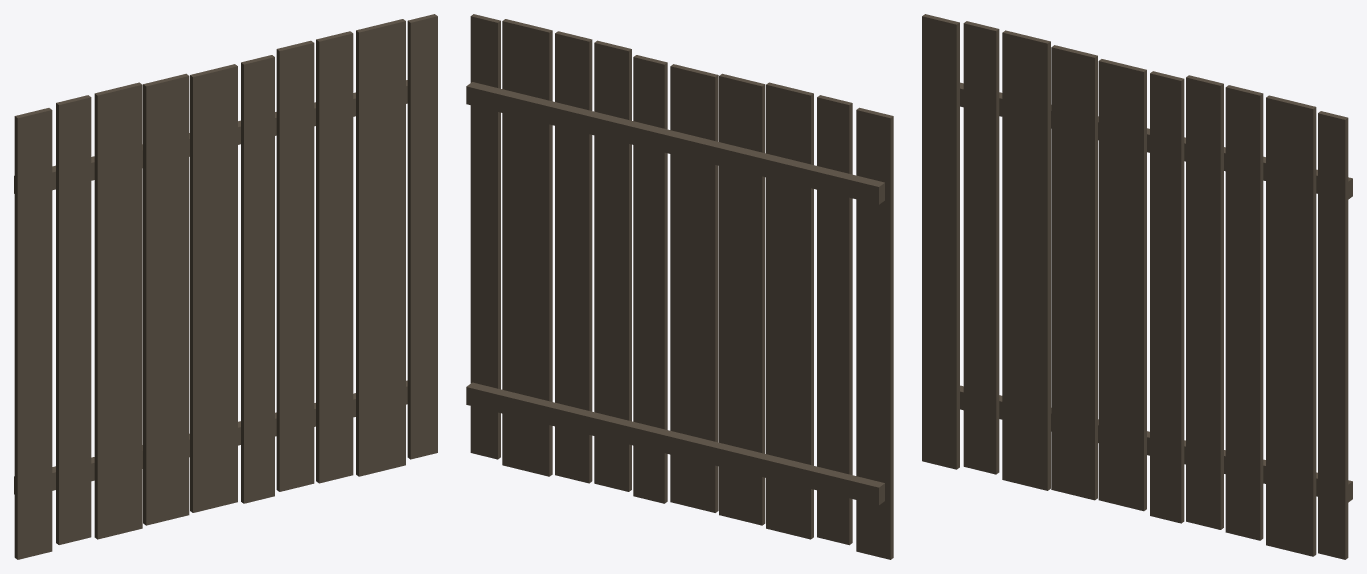
Rendered from bretter_2x2.glb.
The picture shows the model from 3 angles, left to right: view 1: azimuth 30°, elevation 25°; view 2: azimuth 150°, elevation 25°; view 3: azimuth 330°, elevation 25°; orthographic projection.
Parts seen in each view (by area): view 1: bretter_2x2; view 2: bretter_2x2; view 3: bretter_2x2.
Part boxes in pixels (x1,y1,x2,y2): bretter_2x2: (14, 14, 437, 559); bretter_2x2: (466, 14, 893, 559); bretter_2x2: (922, 14, 1352, 559).
Bounding box in the file's own units: 1.97 × 2 × 0.075.
